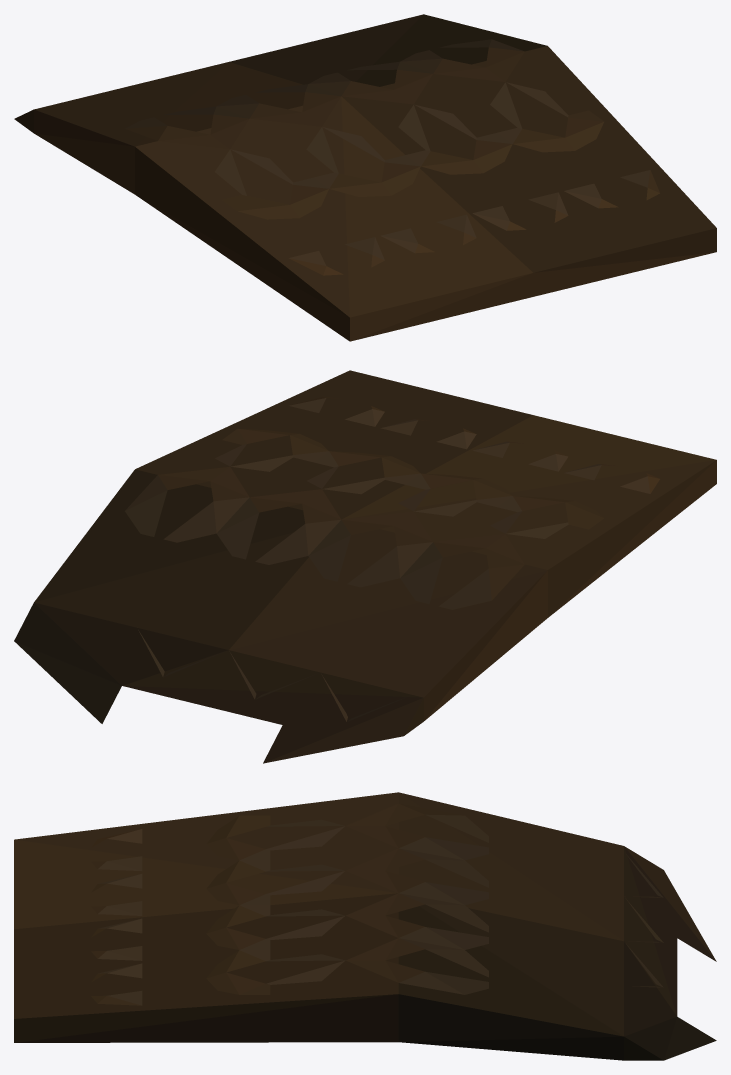
File: bronze-chainbody.obj
The picture shows the model from 3 angles, top to bottom: view 1: azimuth 30°, elevation 25°; view 2: azimuth 150°, elevation 25°; view 3: azimuth 270°, elevation 25°; orthographic projection.
Visible parts, largest first — view 1: Item Bronze chainbody 2026-09-24_18-09-22; view 2: Item Bronze chainbody 2026-09-24_18-09-22; view 3: Item Bronze chainbody 2026-09-24_18-09-22.
Boxes of the visible parts, x1,y1,x2,y2 form: Item Bronze chainbody 2026-09-24_18-09-22: (14,14,716,341); Item Bronze chainbody 2026-09-24_18-09-22: (14,370,716,763); Item Bronze chainbody 2026-09-24_18-09-22: (14,792,716,1060).
Bounding box in the file's own units: 36 × 9 × 53.
